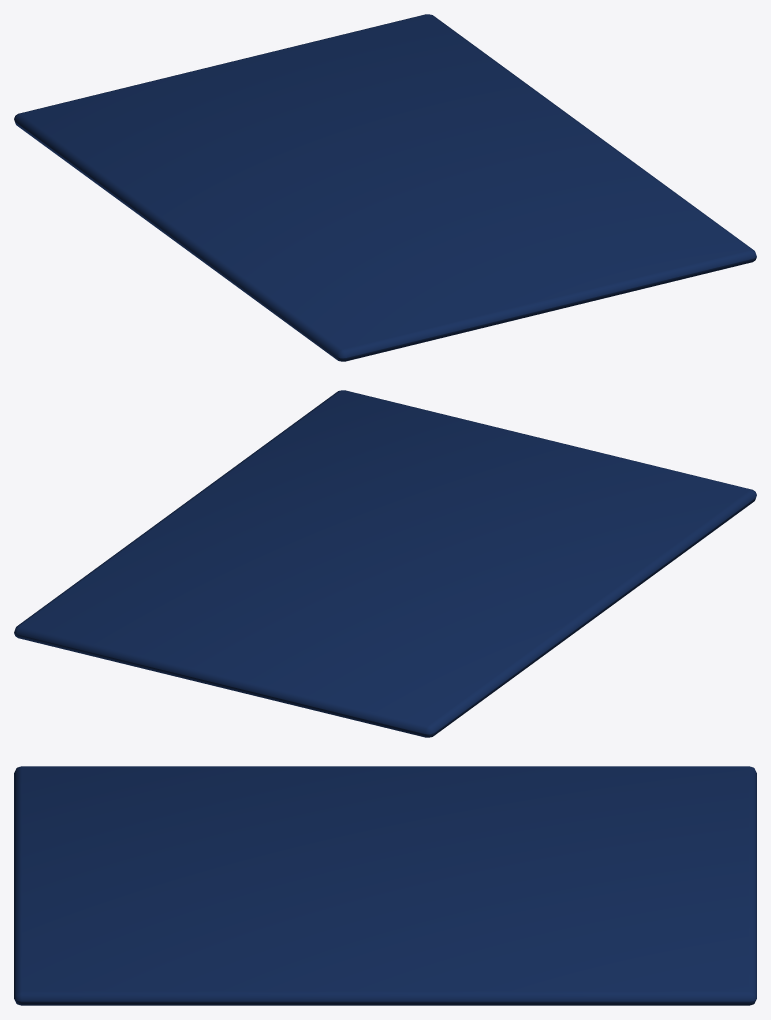
The model's file is GEO_SEDAN_Hood.glb.
The picture shows the model from 3 angles, top to bottom: view 1: azimuth 30°, elevation 25°; view 2: azimuth 150°, elevation 25°; view 3: azimuth 270°, elevation 25°; orthographic projection. The views are drawn at different scales.
Visible parts, largest first — view 1: GEO_SEDAN_Hood; view 2: GEO_SEDAN_Hood; view 3: GEO_SEDAN_Hood.
Part boxes in pixels (bbox=[...]): GEO_SEDAN_Hood: bbox=[14, 14, 756, 361]; GEO_SEDAN_Hood: bbox=[14, 390, 756, 737]; GEO_SEDAN_Hood: bbox=[14, 766, 756, 1005].
Size of the model in its own units: 1.41 by 0.04 by 1.92.
